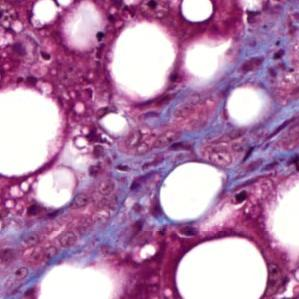steatosis: (105, 25, 179, 98), (153, 161, 226, 223)
